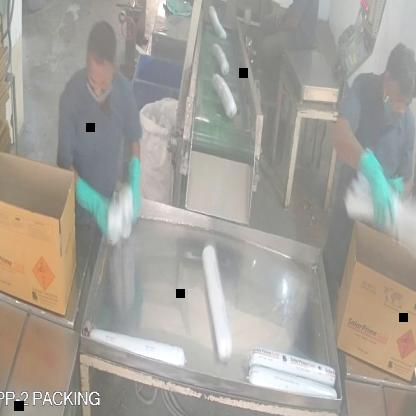glove: (345, 126, 397, 245), (69, 158, 116, 250), (124, 147, 145, 233)
